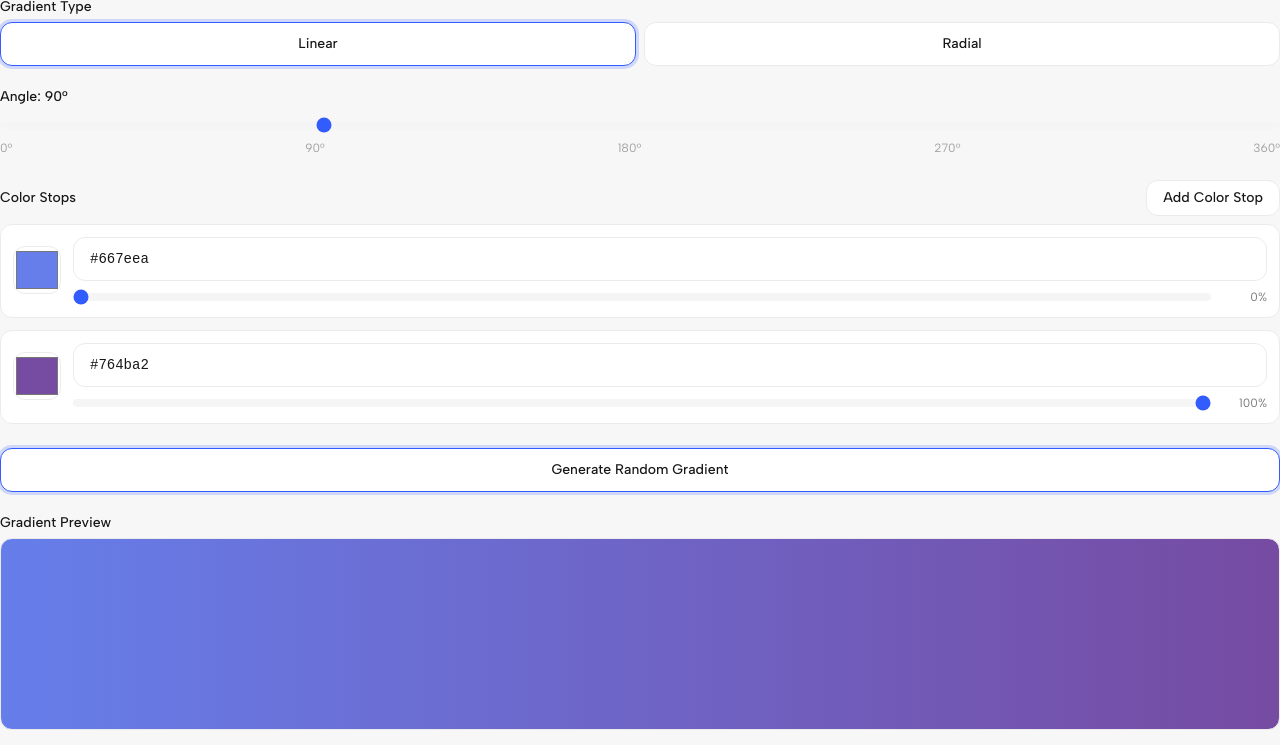
Test: GradientGeneratorTool › limits color stops to 5 maximum
Note: Add 3 more color stops (to reach 5 total)
Step 1. Click the button "Add Color Stop" → (1213, 198), box top-left (1146, 180), bottom-right (1279, 216)
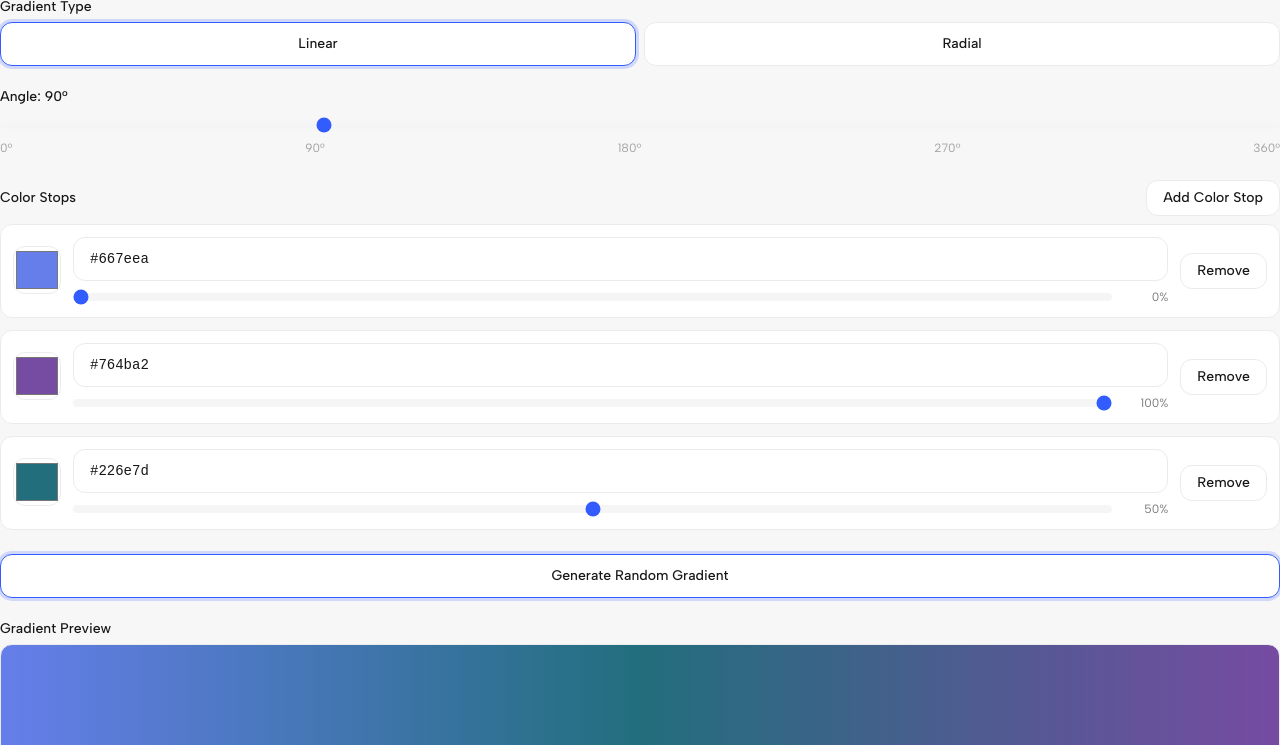
Step 2. Click the button "Add Color Stop" → (1213, 198), box top-left (1146, 180), bottom-right (1279, 216)
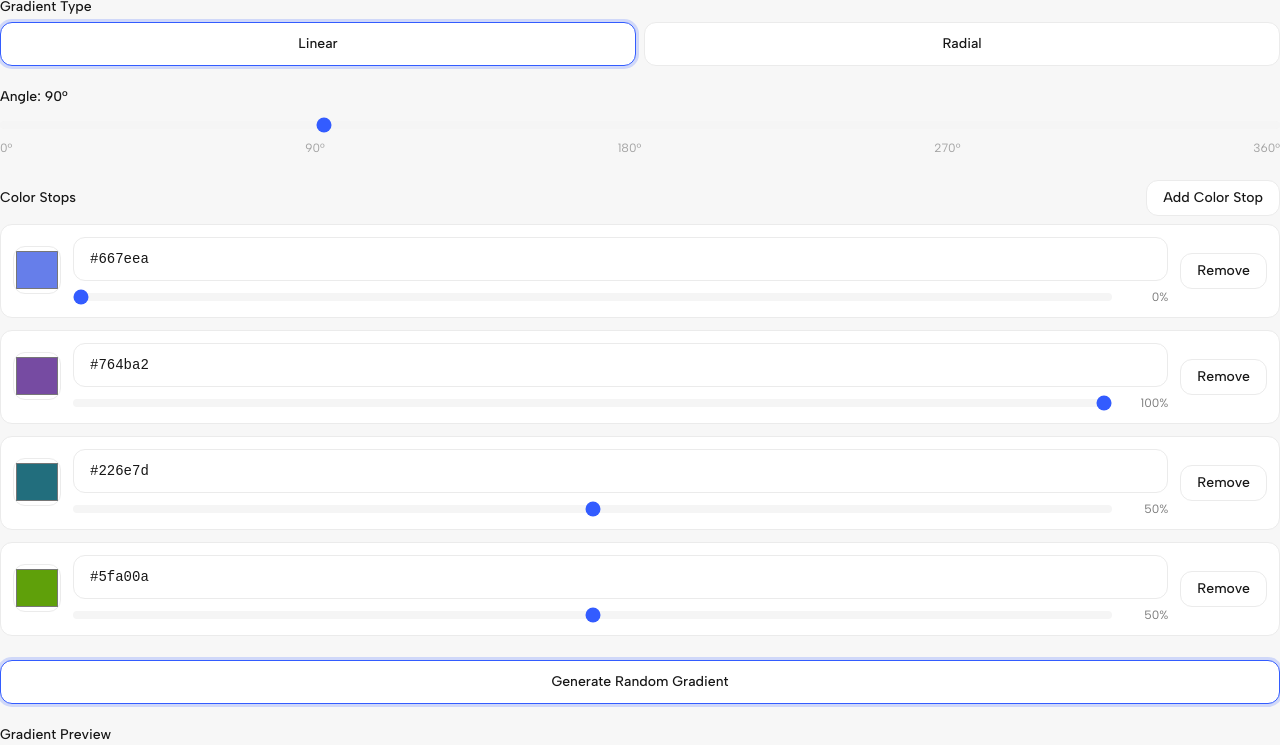
Step 3. Click the button "Add Color Stop" → (1213, 198), box top-left (1146, 180), bottom-right (1279, 216)
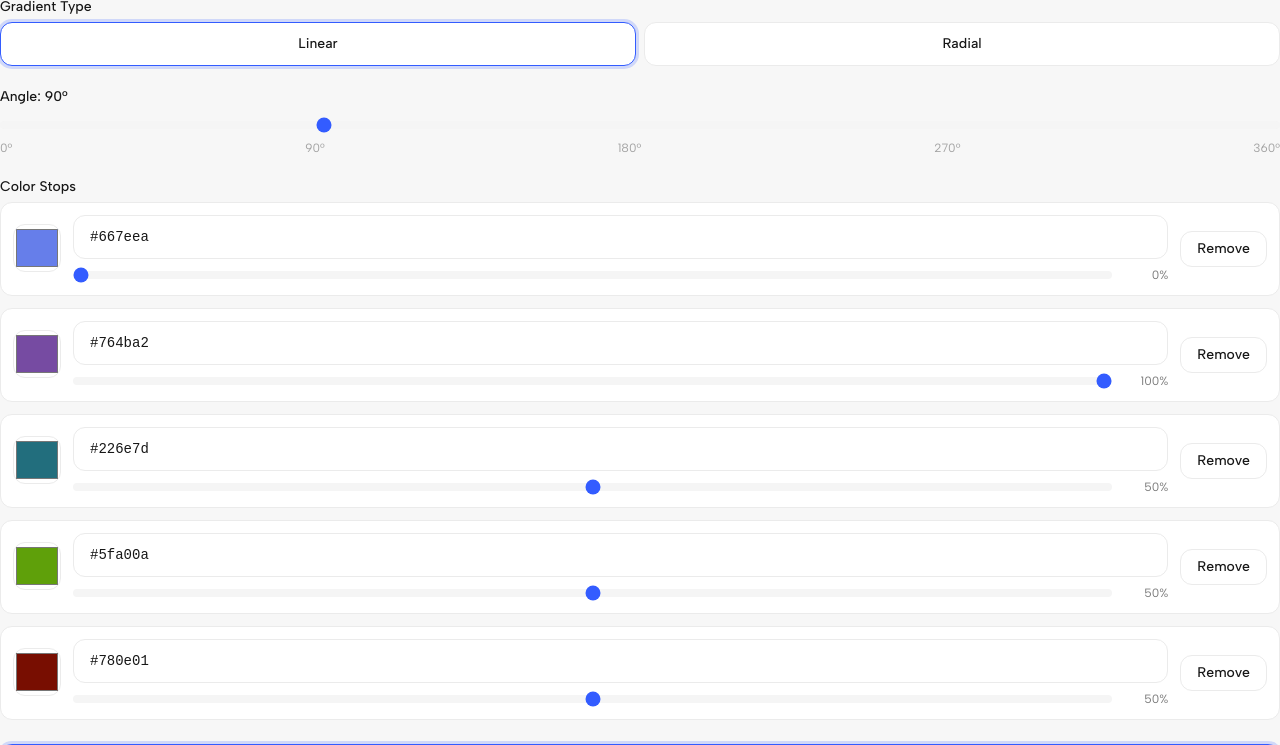
Expected: the button "Add Color Stop" is gone
